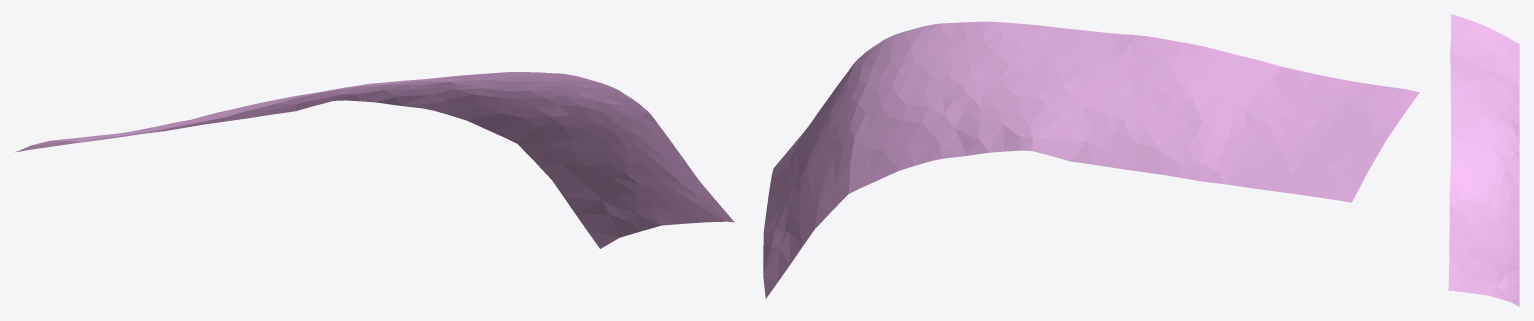
File: Fault_Blythswood_50m_GGERFS_Predrill.gltf
3 views of the same model, side by side, from view 1: azimuth 30°, elevation 25°; view 2: azimuth 150°, elevation 25°; view 3: azimuth 270°, elevation 25° (orthographic). The views are drawn at different scales.
Visible parts, largest first — view 1: FAULT_BLYTHSWOOD_50M_GGERFS_PREDRILL; view 2: FAULT_BLYTHSWOOD_50M_GGERFS_PREDRILL; view 3: FAULT_BLYTHSWOOD_50M_GGERFS_PREDRILL.
Boxes of the visible parts, <box> form: FAULT_BLYTHSWOOD_50M_GGERFS_PREDRILL: <box>15,72,733,248</box>; FAULT_BLYTHSWOOD_50M_GGERFS_PREDRILL: <box>763,21,1419,298</box>; FAULT_BLYTHSWOOD_50M_GGERFS_PREDRILL: <box>1448,14,1519,306</box>.
Bounding box in the file's own units: 2582 × 1140 × 490.
